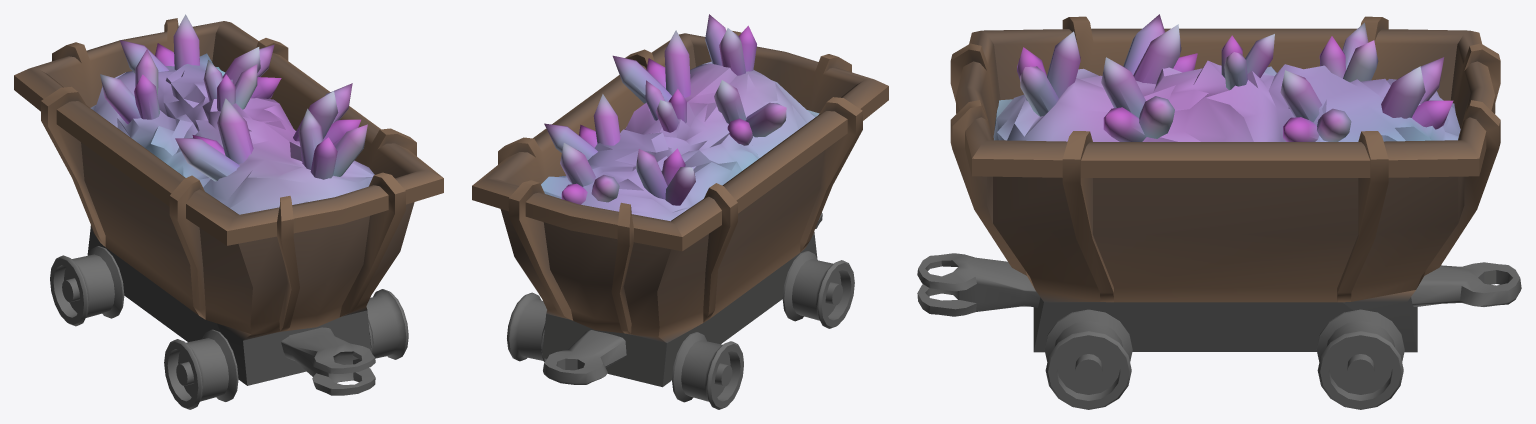
File: crystal.glb
The picture shows the model from 3 angles, left to right: view 1: azimuth 30°, elevation 25°; view 2: azimuth 150°, elevation 25°; view 3: azimuth 270°, elevation 25°; orthographic projection. The views are drawn at different scales.
Parts seen in each view (by area): view 1: Object_2; view 2: Object_2; view 3: Object_2.
Part boxes in pixels (x1,y1,x2,y2): Object_2: (14, 14, 443, 409); Object_2: (472, 14, 888, 409); Object_2: (917, 14, 1521, 409).
Size of the model in its own units: 0.9508 by 1.04 by 1.74.
